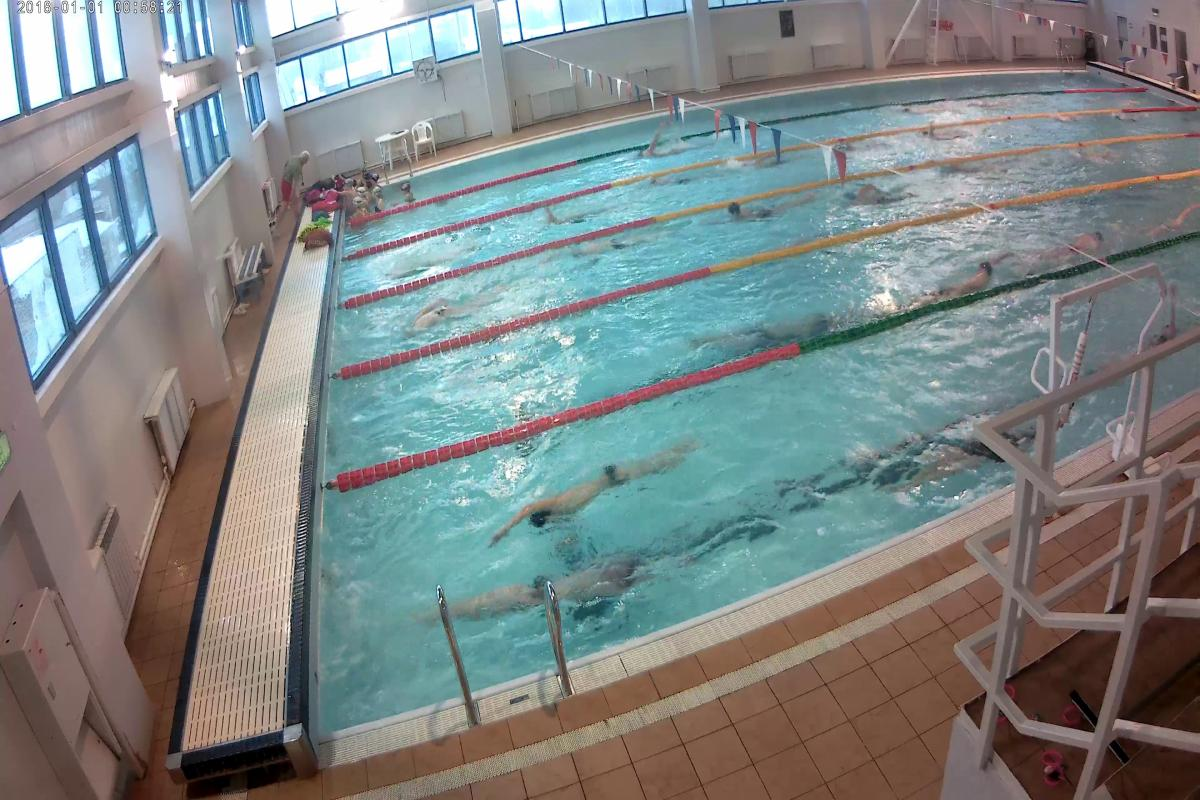swimmer: (514, 445, 688, 506), (410, 550, 644, 585), (898, 431, 993, 484), (895, 257, 997, 302), (708, 313, 822, 341), (707, 198, 805, 230), (553, 237, 635, 266), (416, 303, 515, 324), (1034, 238, 1115, 260), (840, 182, 913, 204)
